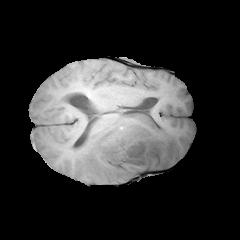glioma: (72, 113, 176, 183)
